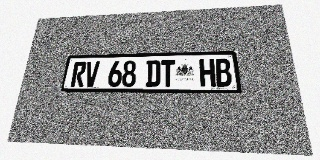6: (107, 61, 123, 87)
8: (121, 60, 137, 87)
B: (215, 59, 233, 87)
D: (146, 60, 161, 87)
H: (199, 59, 216, 87)
R: (70, 62, 87, 87)
T: (160, 60, 175, 87)
V: (84, 61, 100, 87)
